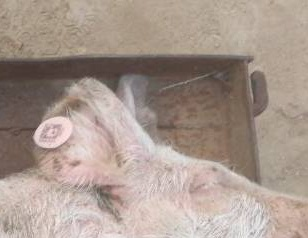text: (18, 106, 85, 158)
